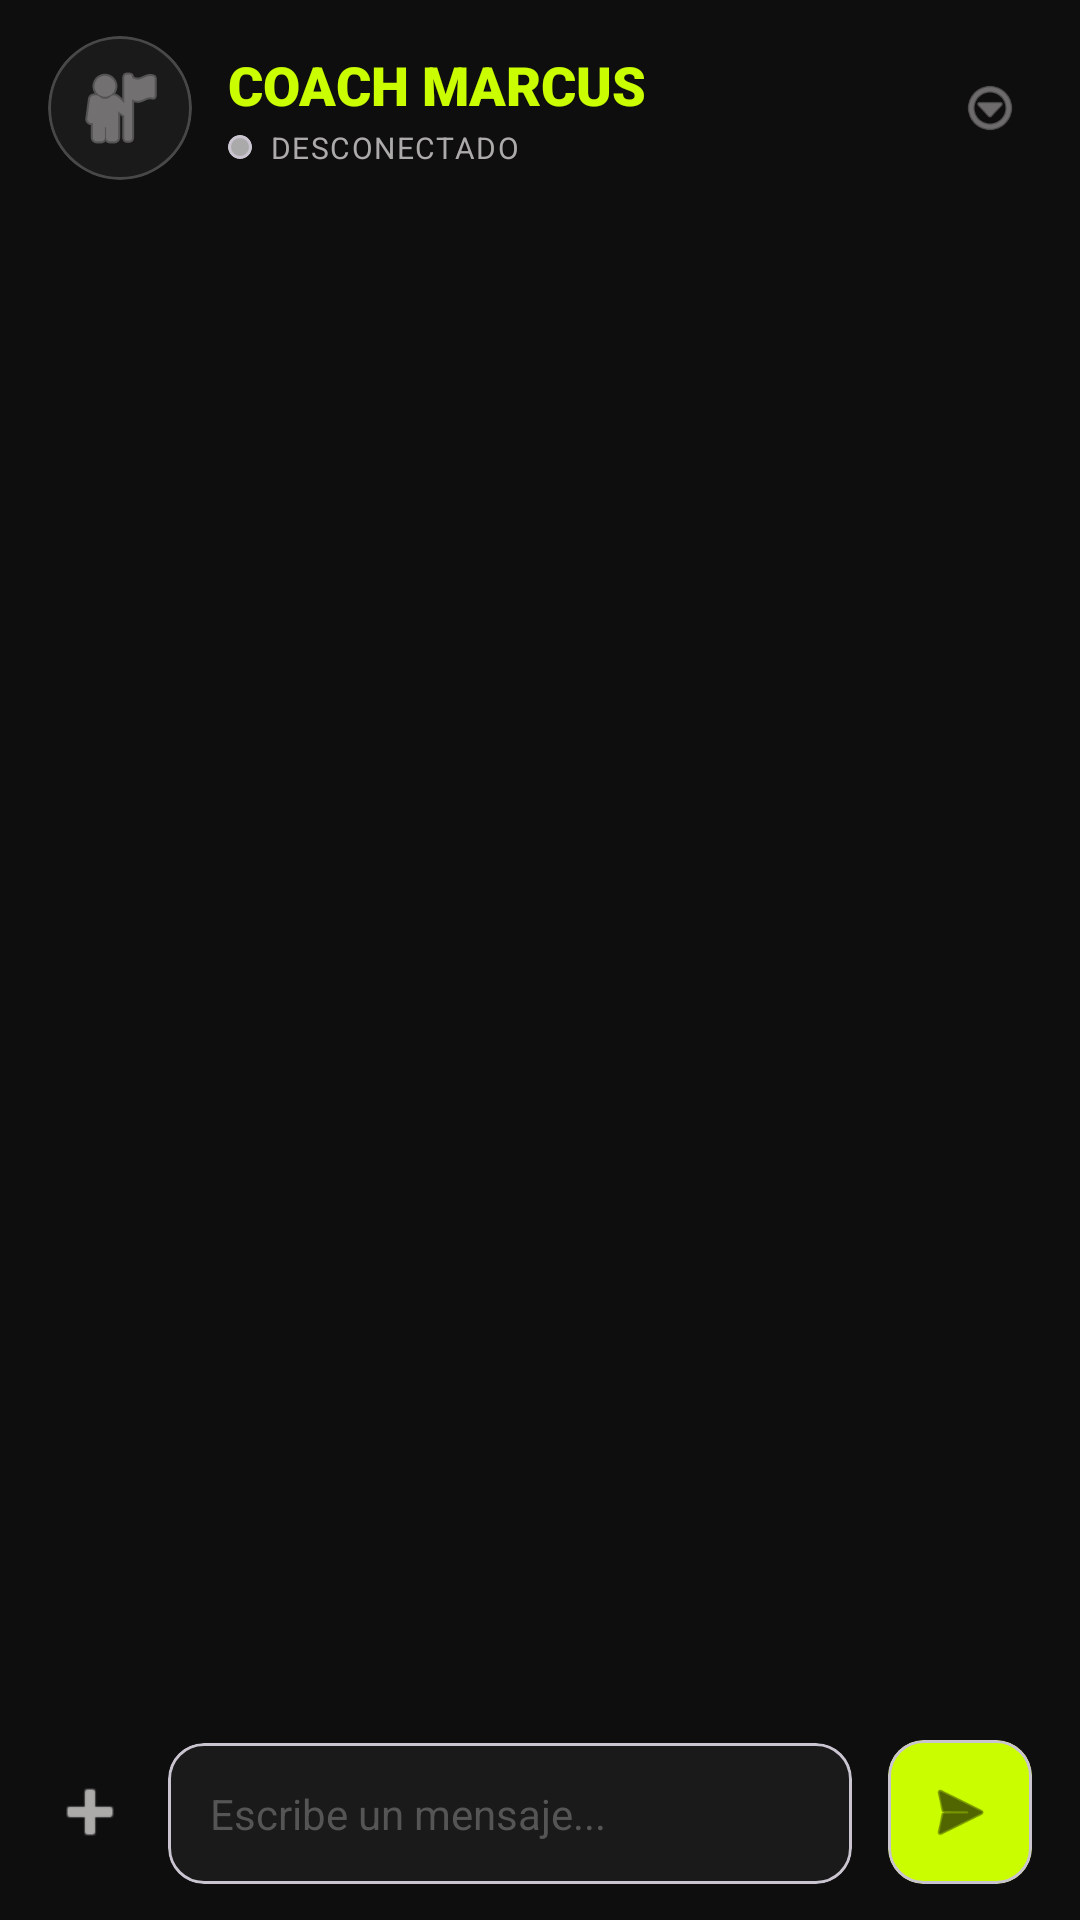

Named icons in this screenshot (1080px x 1920px) and their centers, point (x, y):
add: point (90, 1812)
more: point (990, 108)
send: point (960, 1812)
